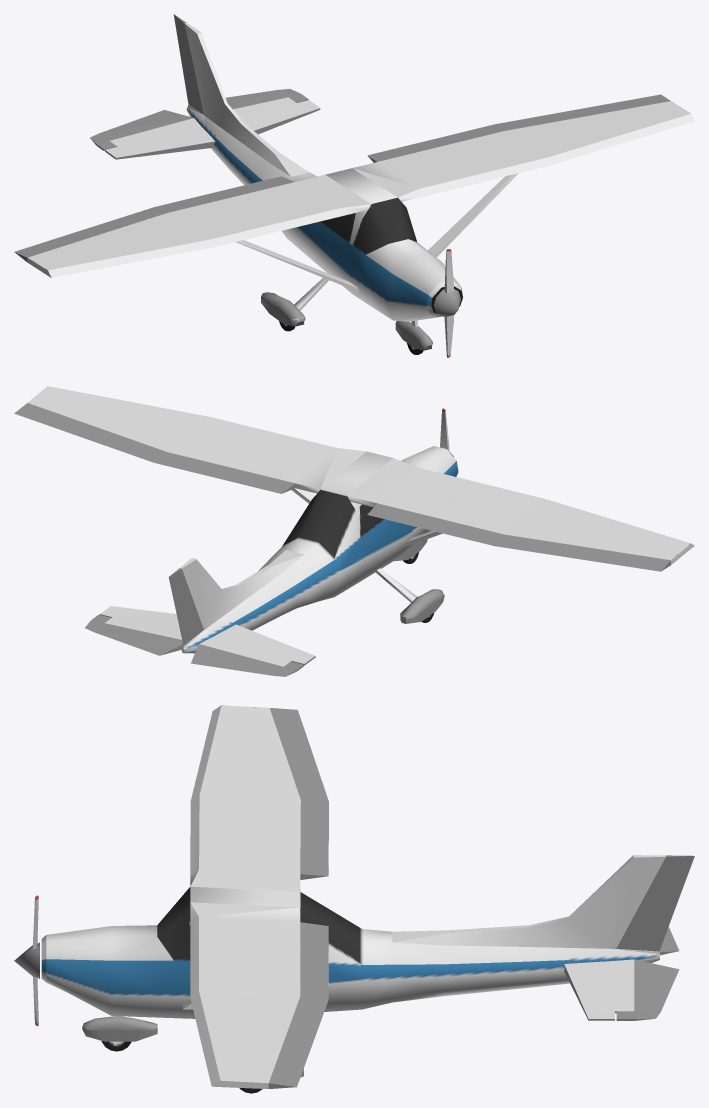
3 renders of one model, top to bottom at view 1: azimuth 30°, elevation 25°; view 2: azimuth 150°, elevation 25°; view 3: azimuth 270°, elevation 25°, orthographic. The views are drawn at different scales.
Parts seen in each view (by area): view 1: Body_Plane_0, Stabilizer_Plane_0, Elevator_Plane_0, RightAileron_Plane_0, LeftAileron_Plane_0, LeftFlap_Plane_0, RightFlap_Plane_0, Propeller_Plane_0, Rudder_Plane_0; view 2: Body_Plane_0, Stabilizer_Plane_0, Elevator_Plane_0, RightAileron_Plane_0, LeftAileron_Plane_0, LeftFlap_Plane_0, RightFlap_Plane_0, Rudder_Plane_0; view 3: Body_Plane_0, Rudder_Plane_0, Stabilizer_Plane_0, LeftAileron_Plane_0, RightAileron_Plane_0, Elevator_Plane_0, RightFlap_Plane_0, LeftFlap_Plane_0, Propeller_Plane_0.
Part boxes in pixels (x1=…): Body_Plane_0: x1=27, y1=23, x2=694, y2=350; Stabilizer_Plane_0: x1=105, y1=97, x2=320, y2=159; Elevator_Plane_0: x1=90, y1=89, x2=308, y2=150; RightAileron_Plane_0: x1=14, y1=207, x2=167, y2=261; LeftAileron_Plane_0: x1=495, y1=94, x2=670, y2=130; LeftFlap_Plane_0: x1=367, y1=124, x2=503, y2=162; RightFlap_Plane_0: x1=155, y1=176, x2=294, y2=212; Propeller_Plane_0: x1=434, y1=249, x2=460, y2=357; Rudder_Plane_0: x1=173, y1=14, x2=203, y2=114; Body_Plane_0: x1=28, y1=386, x2=694, y2=653; Stabilizer_Plane_0: x1=99, y1=606, x2=315, y2=666; Elevator_Plane_0: x1=85, y1=614, x2=303, y2=676; RightAileron_Plane_0: x1=494, y1=534, x2=670, y2=571; LeftAileron_Plane_0: x1=14, y1=403, x2=167, y2=462; LeftFlap_Plane_0: x1=155, y1=452, x2=294, y2=493; RightFlap_Plane_0: x1=367, y1=503, x2=503, y2=545; Rudder_Plane_0: x1=168, y1=568, x2=203, y2=645; Body_Plane_0: x1=41, y1=705, x2=665, y2=1088; Rudder_Plane_0: x1=616, y1=855, x2=694, y2=951; Stabilizer_Plane_0: x1=564, y1=959, x2=634, y2=1020; LeftAileron_Plane_0: x1=268, y1=996, x2=328, y2=1088; RightAileron_Plane_0: x1=270, y1=708, x2=328, y2=801; Elevator_Plane_0: x1=616, y1=927, x2=679, y2=1020; RightFlap_Plane_0: x1=300, y1=800, x2=328, y2=879; LeftFlap_Plane_0: x1=300, y1=922, x2=328, y2=1000; Propeller_Plane_0: x1=14, y1=895, x2=39, y2=1026.
Bounding box in the file's own units: 11.02 × 2.65 × 8.4.
1 material, 1 textured.
